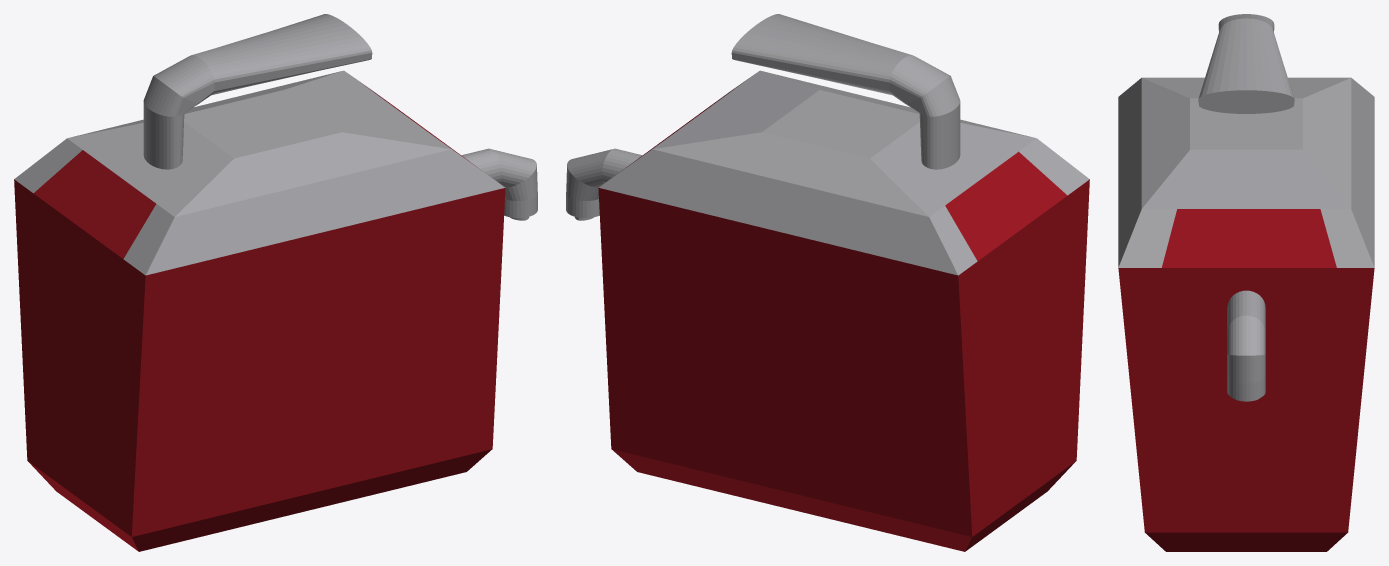
File: ketchup.fbx
The picture shows the model from 3 angles, left to right: view 1: azimuth 30°, elevation 25°; view 2: azimuth 150°, elevation 25°; view 3: azimuth 270°, elevation 25°; orthographic projection. The views are drawn at different scales.
Visible parts, largest first — view 1: Cube, Cylinder, Cylinder.002; view 2: Cube, Cylinder, Cylinder.002; view 3: Cube, Cylinder, Cylinder.002.
Part boxes in pixels (x1,y1,x2,y2): Cube: [14, 70, 505, 551]; Cylinder: [143, 14, 372, 169]; Cylinder.002: [461, 148, 537, 220]; Cube: [598, 70, 1089, 551]; Cylinder: [731, 14, 960, 169]; Cylinder.002: [566, 148, 642, 220]; Cube: [1118, 77, 1374, 551]; Cylinder: [1198, 14, 1294, 113]; Cylinder.002: [1227, 290, 1265, 401].
Size of the model in its own units: 153 by 141 by 76.59.
